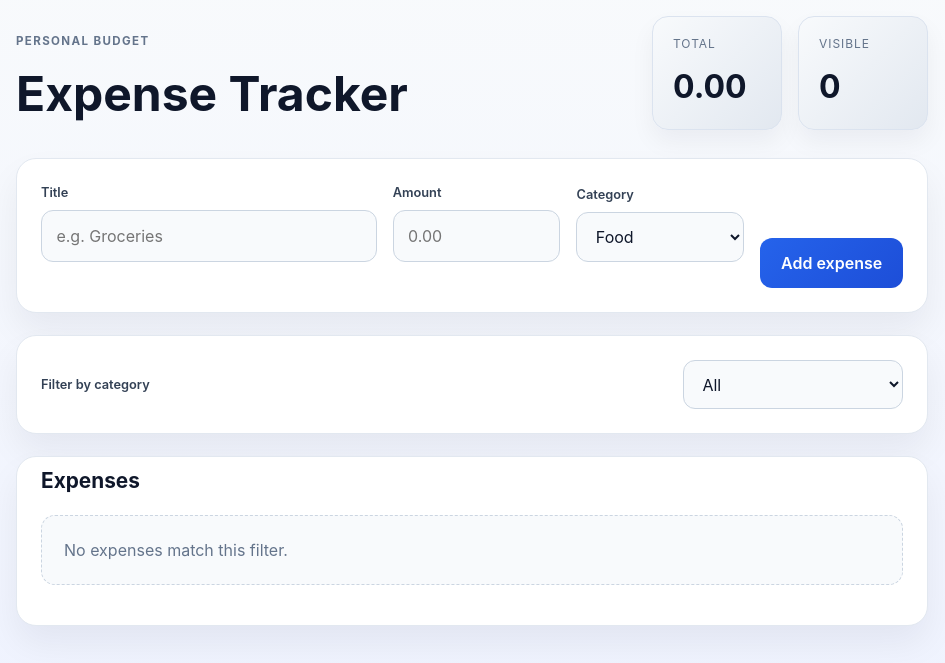
Test: Expense tracker app › deletes an expense when requested
The image size is (945, 663).
Type "Lunch" into the field labelled "Title".
click(209, 236); type("Lunch")  # box left=41, top=210, right=377, bottom=262
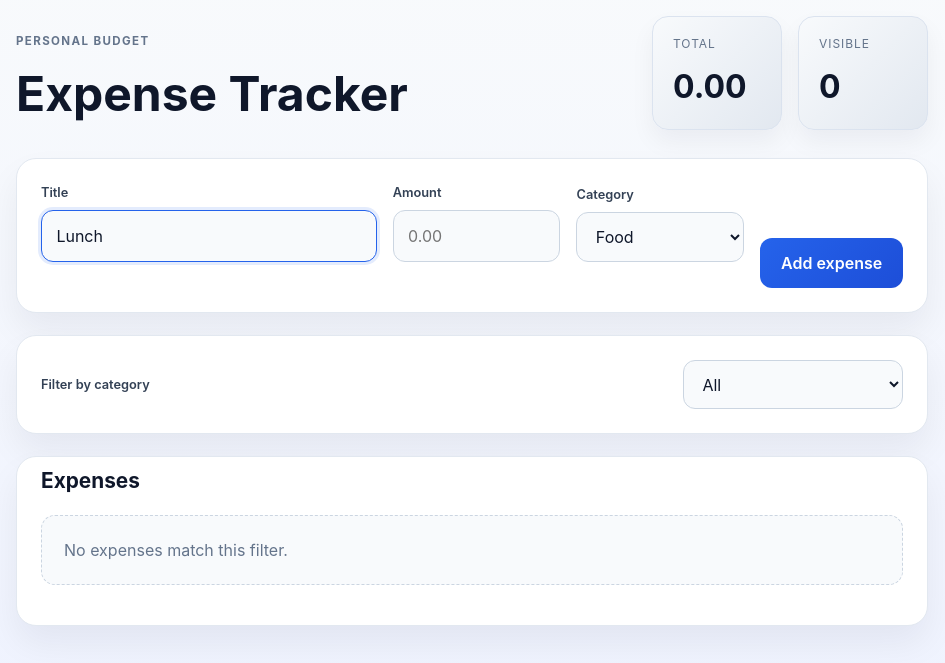
Type "250" into the number field labelled "Amount".
click(476, 236); type("250")  # box left=393, top=210, right=560, bottom=262
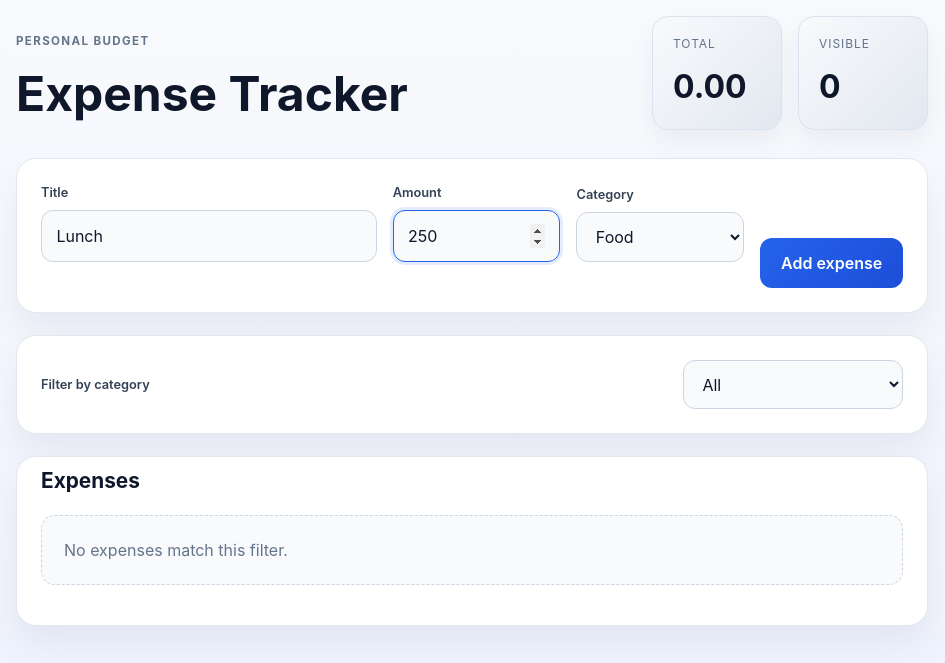
Click the button "Add expense".
click(832, 263)  # box left=760, top=238, right=903, bottom=288
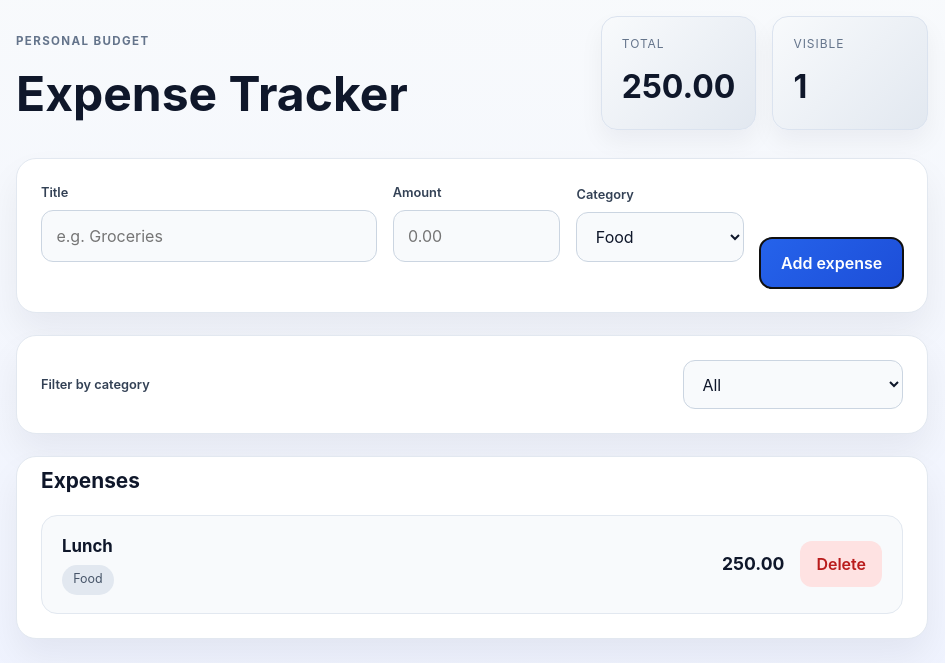
Click the button "Delete".
click(841, 564)  # box left=800, top=541, right=882, bottom=587
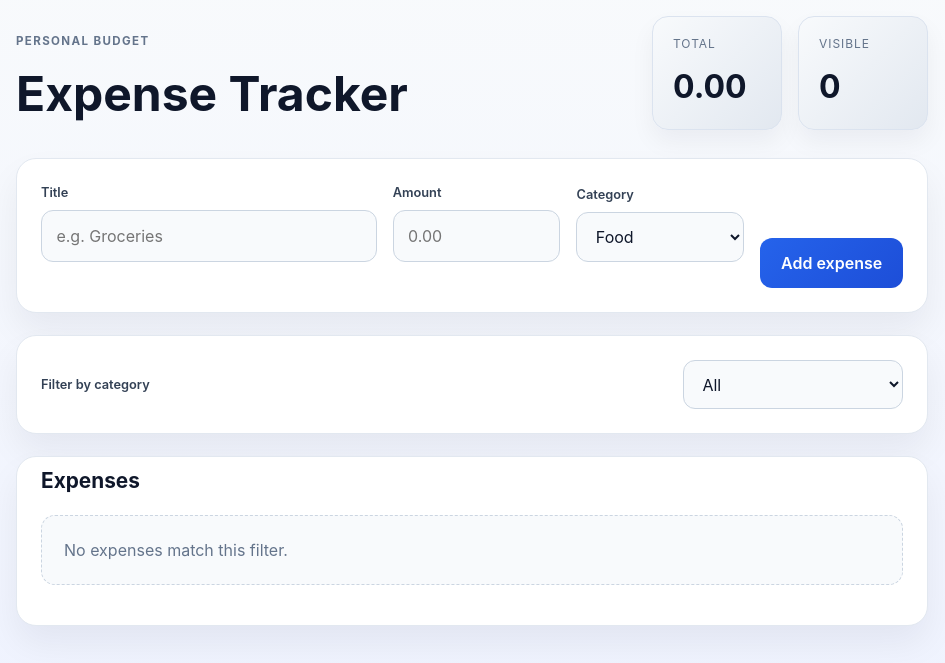
Now the text "No expenses match this filter." is shown, box left=41, top=515, right=903, bottom=585
Now the text with test id "count" reads "0", box left=819, top=67, right=841, bottom=106
